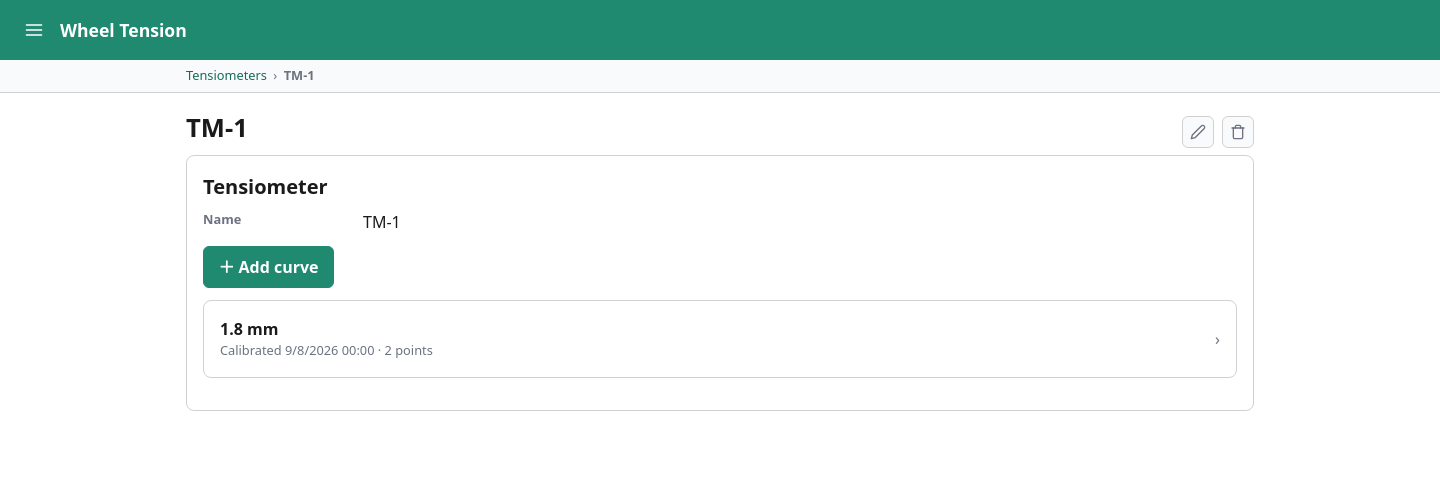
Scenario: TensiometerDetailPage › adds a curve and navigates straight into its editor
Step 1. Click the button "＋ Add curve" → click(268, 267), box [203,246,334,288]
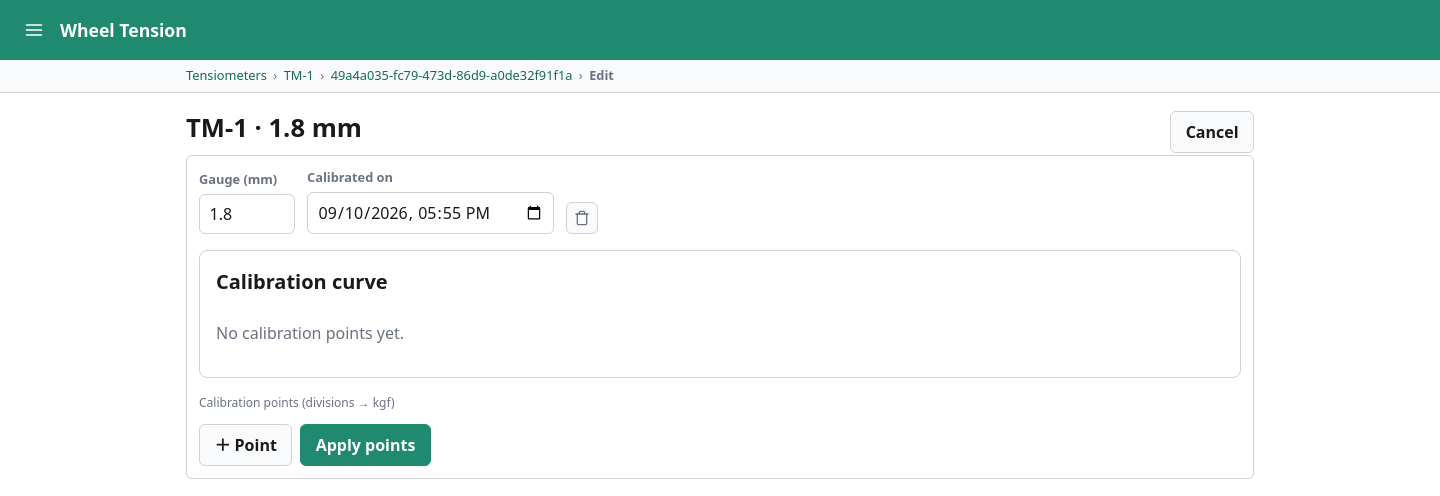
Expected: the button "Apply points" is shown, [300,424,431,466]
Expected: the number field labelled "Gauge (mm)" is shown, [199,194,295,234]
